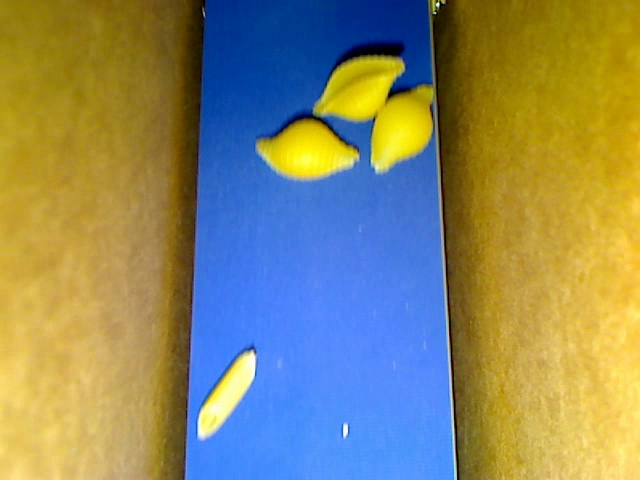penne: (197, 347, 257, 441)
shell: (255, 118, 359, 181), (313, 54, 406, 123), (369, 84, 436, 174)
